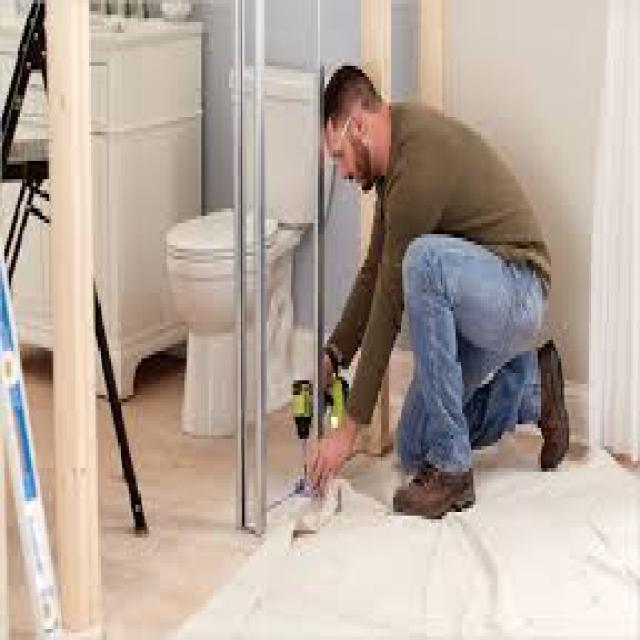Fitting: (86, 38, 458, 619)
